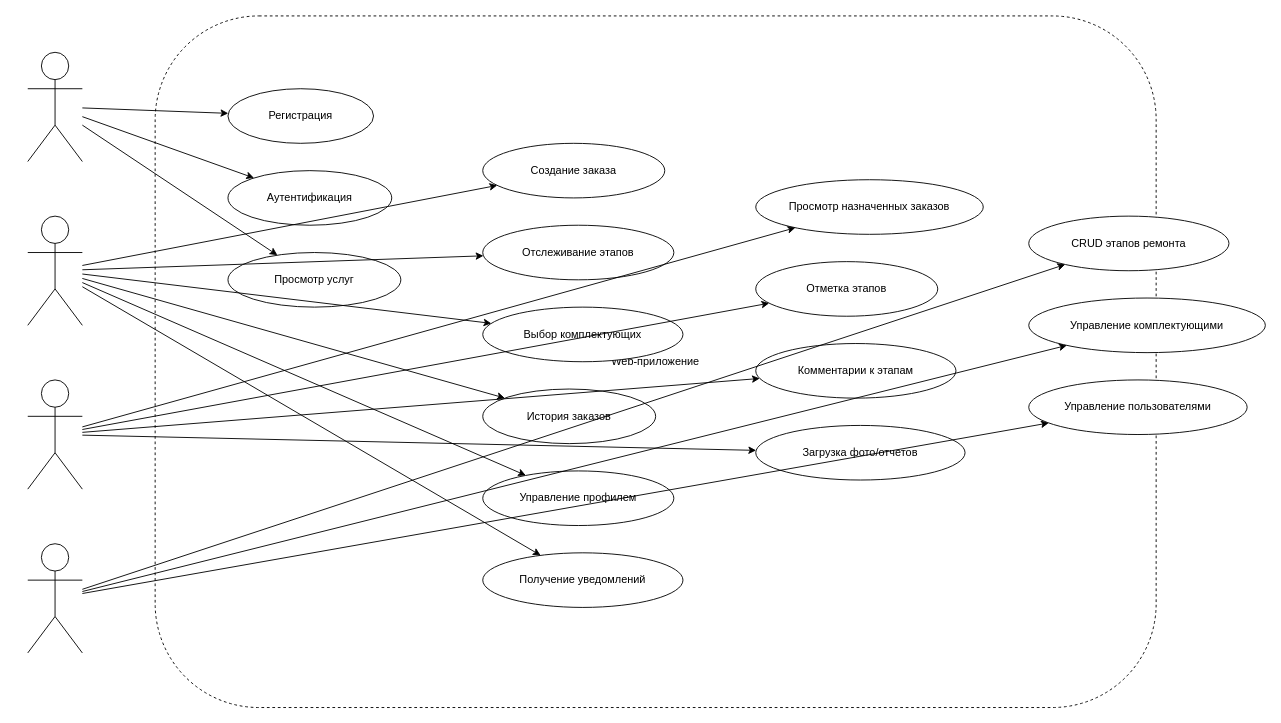
Some shapes in this 1281 by 723 pixel diagram are drawn without their labels. The shapes that lost their labels are listed below. From the top down, each one's box as (x1, y1, x2, y2) in pixels, then its label:
(27, 51, 82, 162): Гость
(27, 215, 82, 325): Клиент
(27, 379, 82, 489): Механик
(27, 543, 82, 653): Администратор
